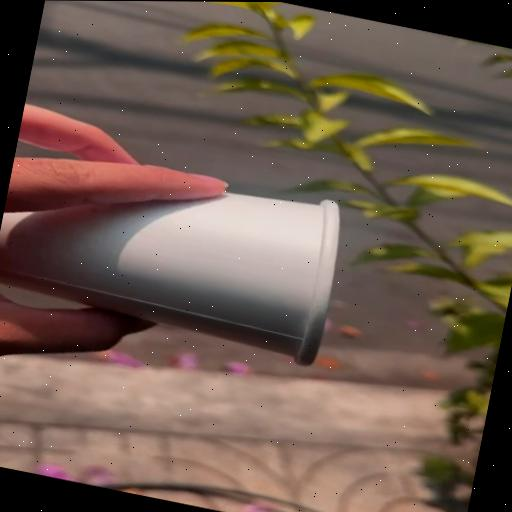Ly_giay: (0, 193, 339, 365)
